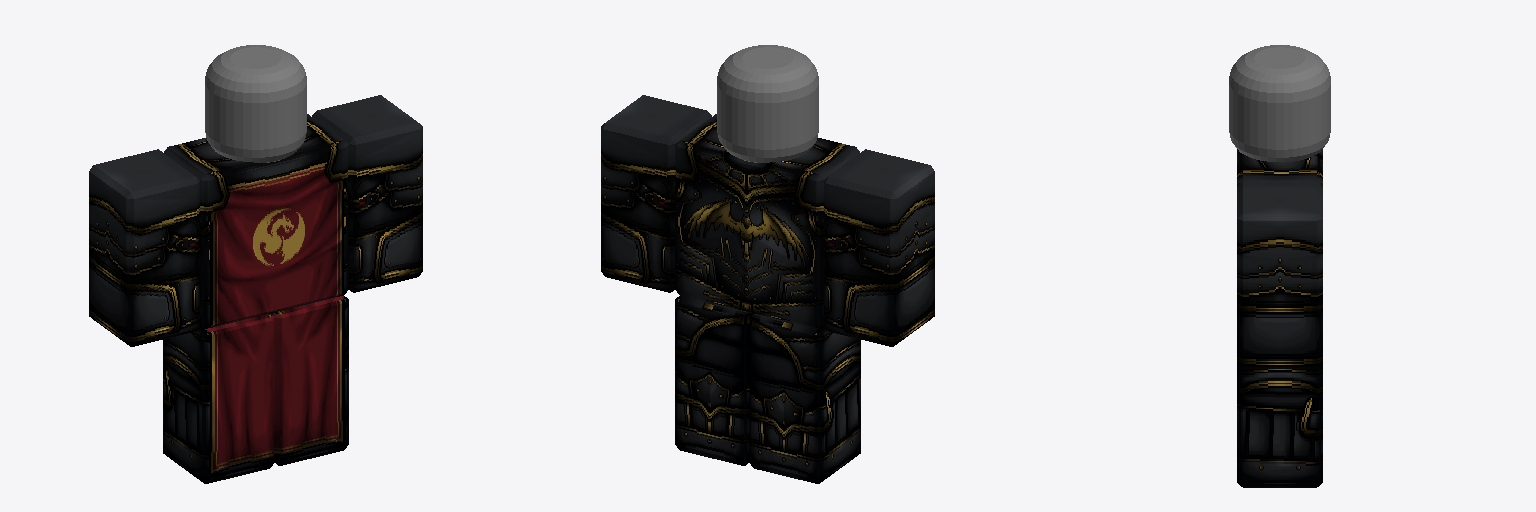
3 views of the same model, side by side, from view 1: azimuth 30°, elevation 25°; view 2: azimuth 150°, elevation 25°; view 3: azimuth 270°, elevation 25° (orthographic).
Visible parts, largest first — view 1: Warfare5, Warfare4, Warfare2, Warfare3, Warfare1, Warfare6; view 2: Warfare5, Warfare4, Warfare2, Warfare3, Warfare1, Warfare6; view 3: Warfare3, Warfare6, Warfare1, Warfare5.
Boxes of the visible parts, x1,y1,x2,y2 form: Warfare5: [164, 114, 348, 328]; Warfare4: [89, 149, 199, 346]; Warfare2: [163, 314, 274, 483]; Warfare3: [312, 95, 422, 292]; Warfare1: [270, 296, 348, 465]; Warfare6: [205, 45, 306, 162]; Warfare5: [675, 114, 859, 328]; Warfare4: [824, 149, 934, 346]; Warfare2: [749, 314, 860, 483]; Warfare3: [601, 95, 711, 292]; Warfare1: [675, 296, 753, 465]; Warfare6: [717, 45, 818, 162]; Warfare3: [1237, 182, 1322, 368]; Warfare6: [1229, 45, 1330, 161]; Warfare1: [1237, 364, 1322, 487]; Warfare5: [1237, 149, 1322, 186].
Size of the model in its own units: 4 by 5.1 by 1.2.
Materials: 1 (1 with a texture image).